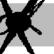not correct: (0, 0, 44, 54)
